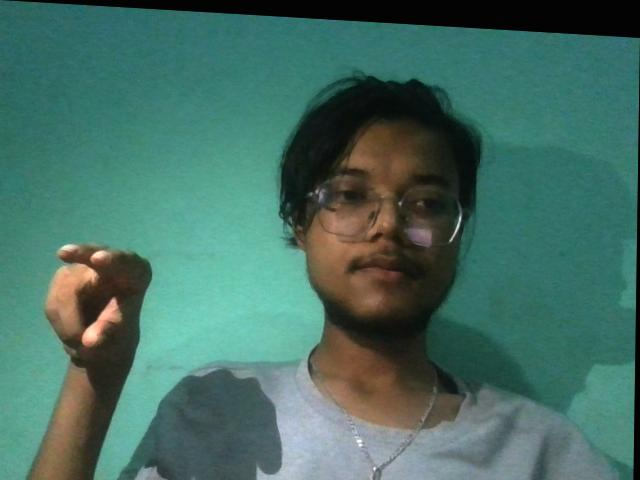No: (32, 228, 181, 383)
